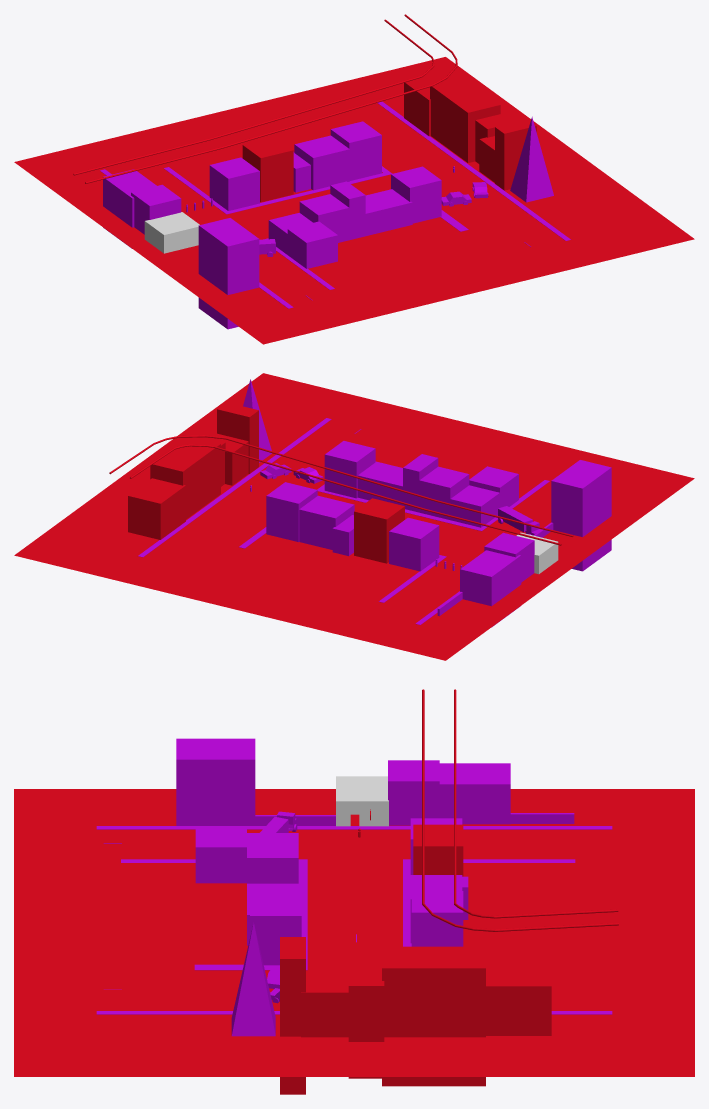
The model's file is mapa_pruebas.dae.
3 views of the same model, one above another, from view 1: azimuth 30°, elevation 25°; view 2: azimuth 150°, elevation 25°; view 3: azimuth 270°, elevation 25° (orthographic). The views are drawn at different scales.
Visible parts, largest first — view 1: Sphere; view 2: Sphere; view 3: Sphere.
Part boxes in pixels (x1=…): Sphere: x1=14, y1=14, x2=694, y2=344; Sphere: x1=14, y1=373, x2=694, y2=660; Sphere: x1=14, y1=689, x2=694, y2=1094.
Size of the model in its own units: 176 by 166 by 44.65.
